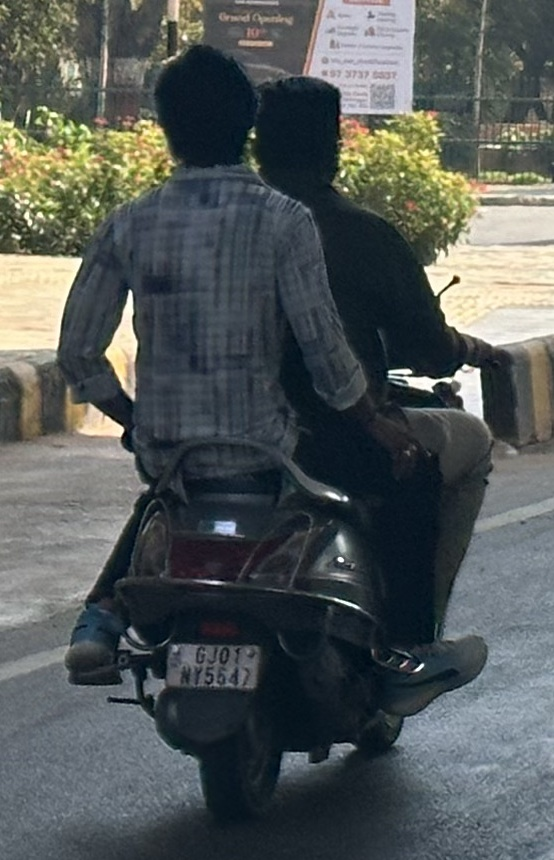BikeWithRider: (42, 34, 515, 834)
NoHelmet: (140, 36, 261, 184), (236, 69, 354, 199)
